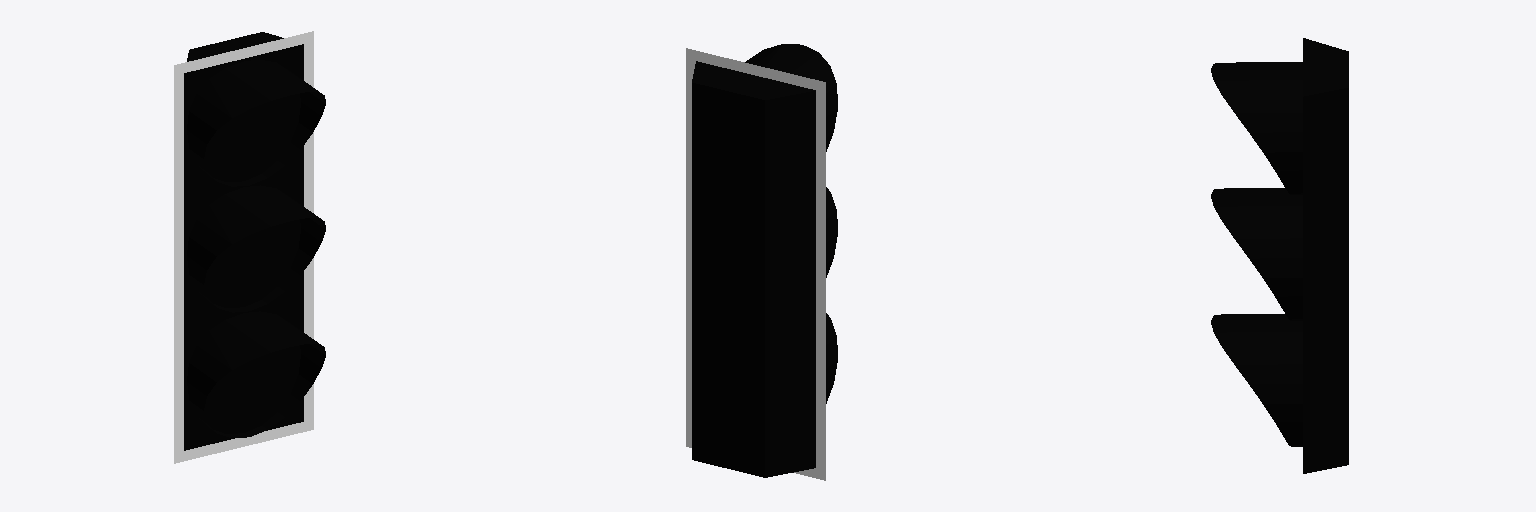
Rendered from TLS4.obj.
3 views of the same model, side by side, from view 1: azimuth 30°, elevation 25°; view 2: azimuth 150°, elevation 25°; view 3: azimuth 270°, elevation 25° (orthographic).
Size of the model in its own units: 0.875 by 2.38 by 0.748.